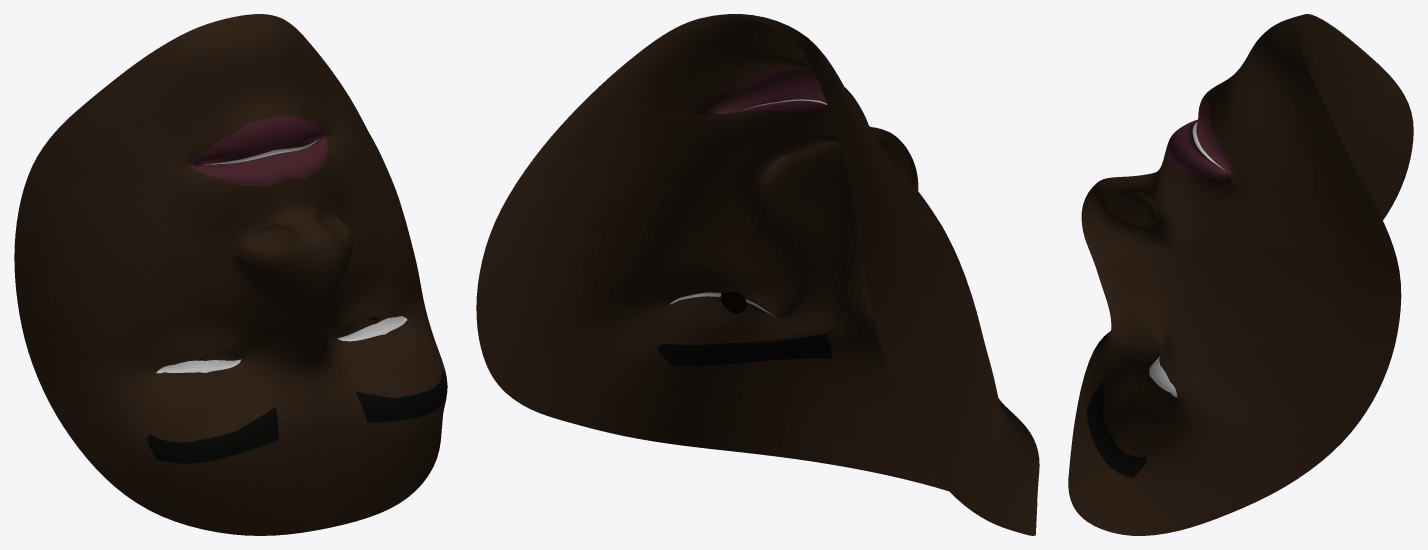
Rendered from VID-20250515-WA0005_f_00306.obj.
3 views of the same model, side by side, from view 1: azimuth 30°, elevation 25°; view 2: azimuth 150°, elevation 25°; view 3: azimuth 270°, elevation 25° (orthographic). The views are drawn at different scales.
Parts seen in each view (by area): view 1: face_mesh_subdivided; view 2: face_mesh_subdivided; view 3: face_mesh_subdivided.
Boxes of the visible parts, left/top/right/bottom form: face_mesh_subdivided: left=14, top=14, right=447, bottom=535; face_mesh_subdivided: left=476, top=14, right=1039, bottom=535; face_mesh_subdivided: left=1068, top=14, right=1413, bottom=535.
Bounding box in the file's own units: 0.4923 × 0.5633 × 0.3849.
